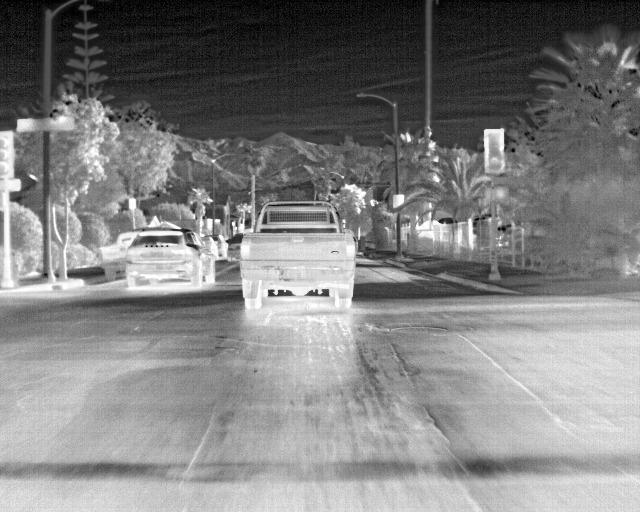car: (239, 199, 356, 309), (125, 227, 216, 288), (98, 230, 142, 282), (204, 234, 228, 258), (227, 232, 244, 261), (200, 236, 219, 260)
light: (489, 132, 502, 170), (0, 136, 9, 174), (492, 185, 509, 201)
sign: (16, 116, 75, 133), (0, 179, 22, 192), (393, 194, 404, 208), (129, 198, 136, 209), (197, 220, 204, 227)
